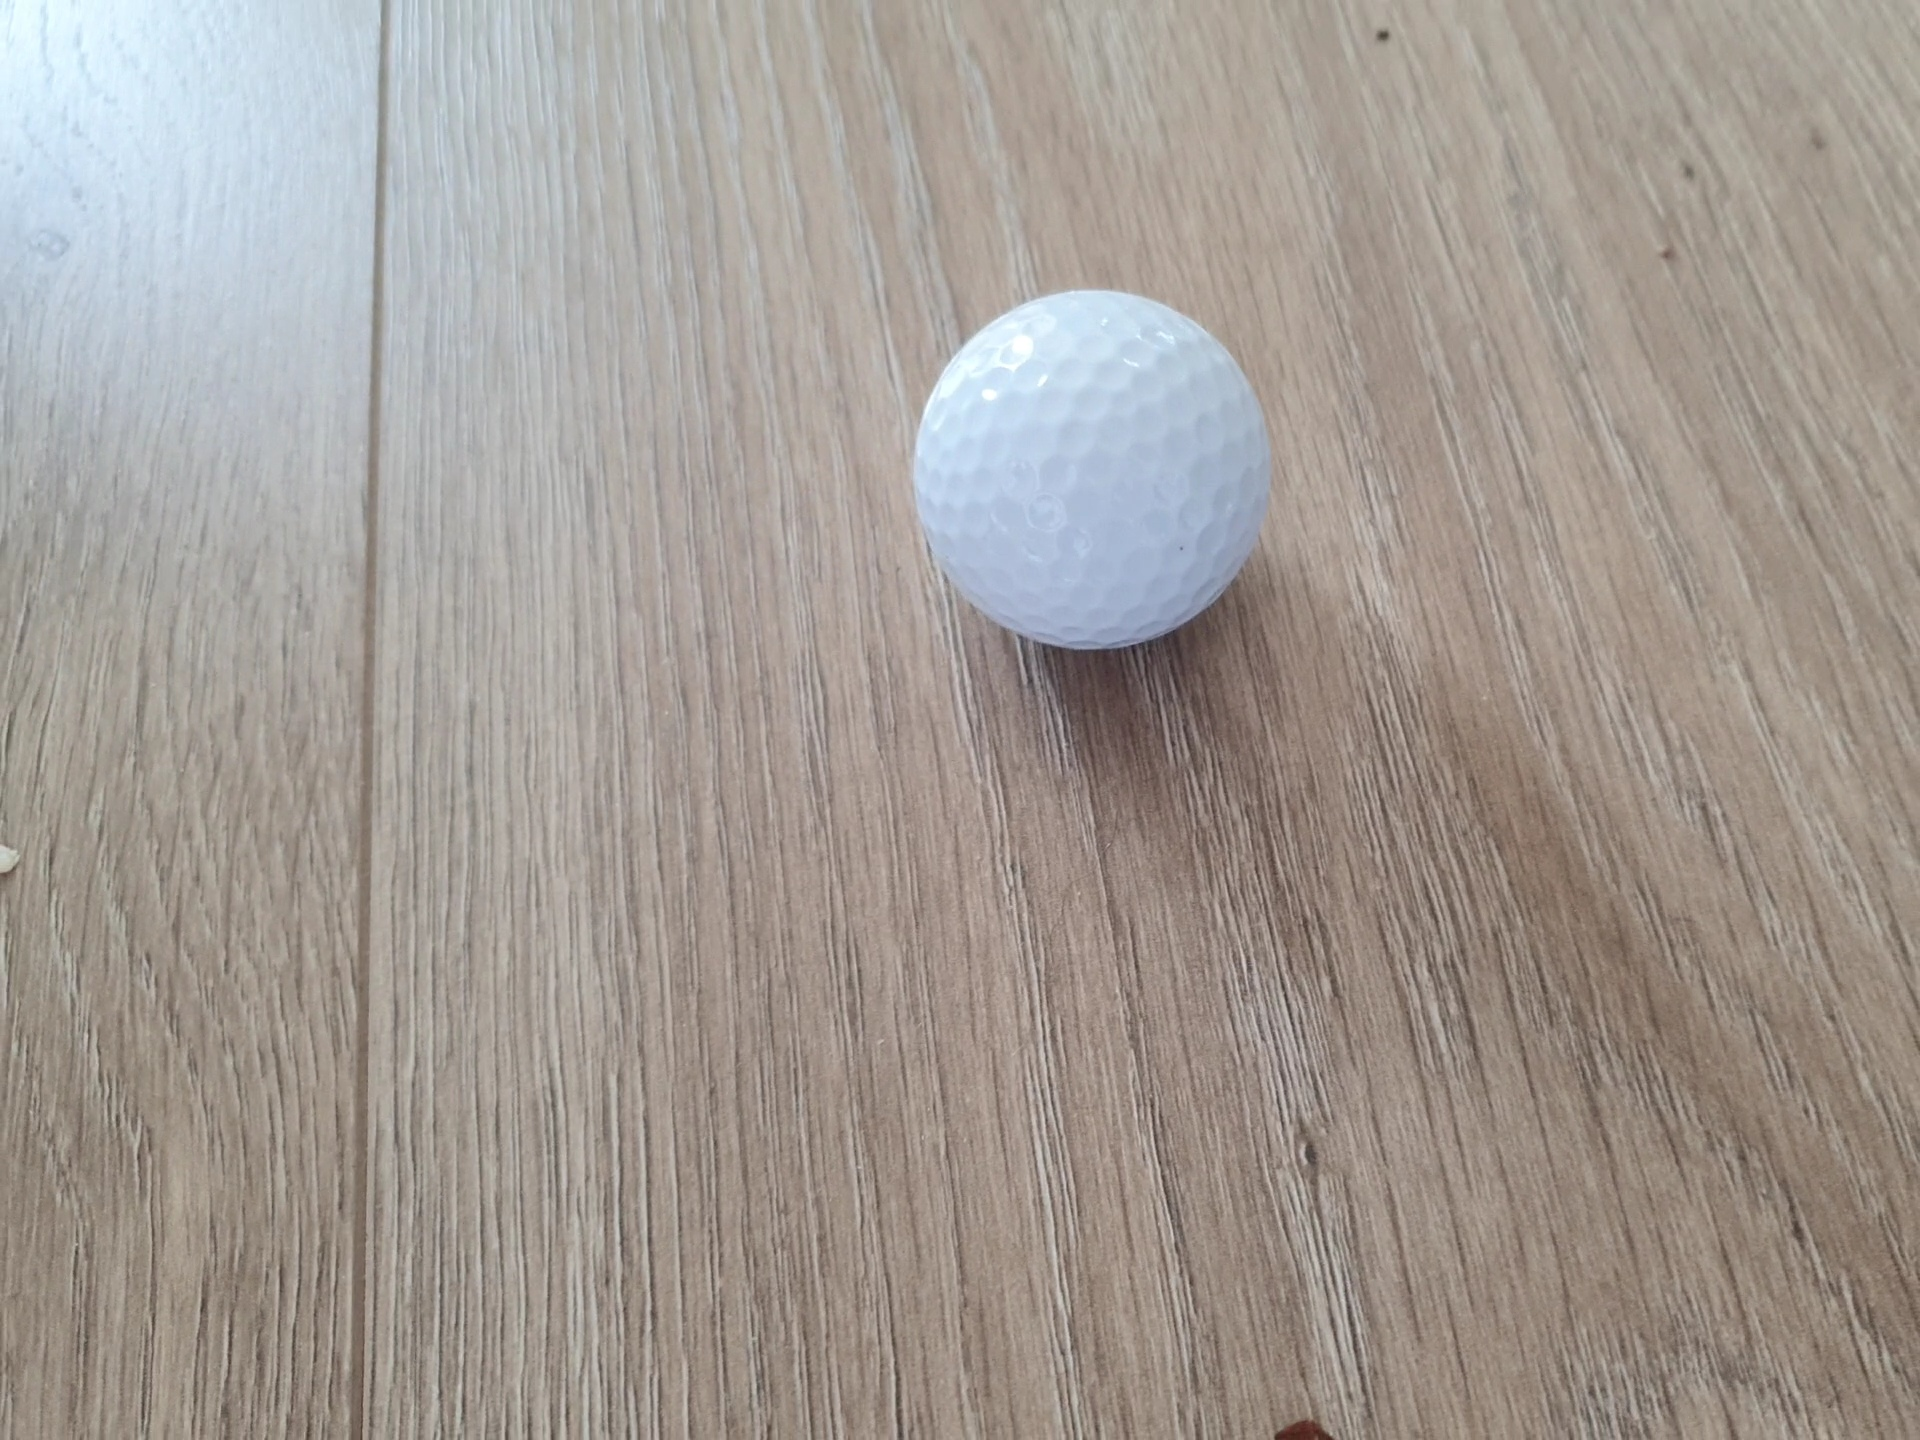golfball: (904, 281, 1282, 659)
